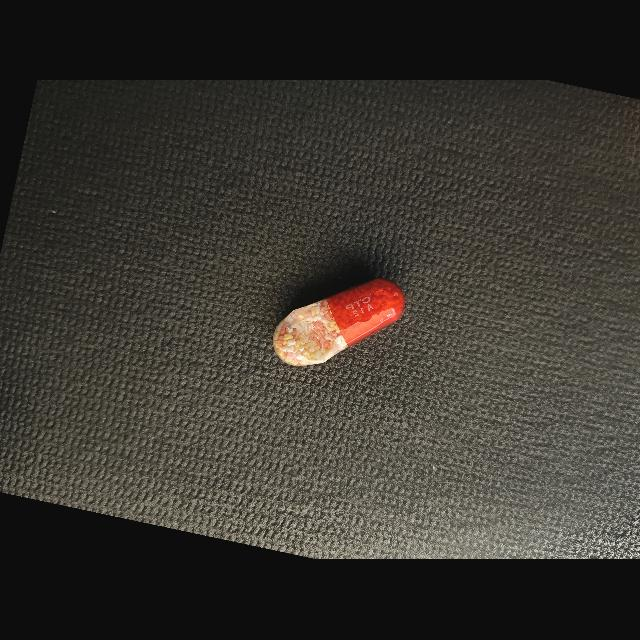Defective Capsule: (273, 279, 405, 367)
